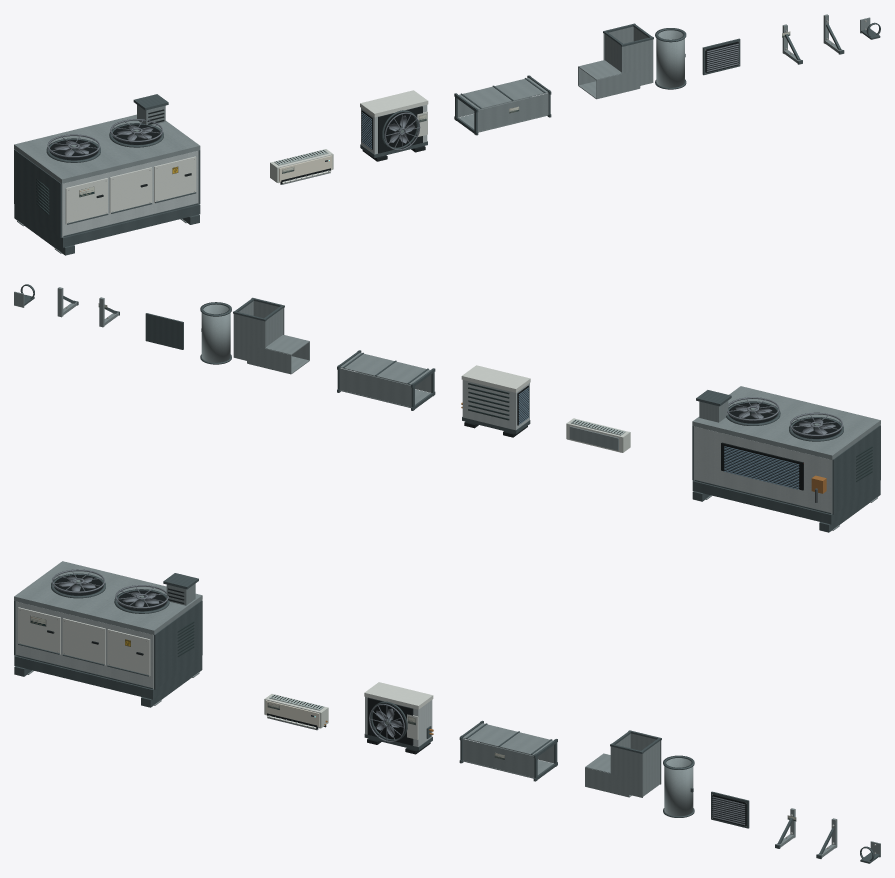
File: PZ_Building_HVAC_Complete_Kit.glb
3 renders of one model, top to bottom at view 1: azimuth 30°, elevation 25°; view 2: azimuth 150°, elevation 25°; view 3: azimuth 330°, elevation 25°, orthographic.
Visible parts, largest first — view 1: RTU_TopRecessed_Panel, RTU_MainCabinet, RTU_Left_CornerTrim, RTU_Underbase_Pan, RTU_ServiceDoor_2, DUCT_Rect_Left, DUCT_RoundTube_HollowWall, RTU_ServiceDoor_3, RTU_ServiceDoor_1, DUCT_Rect_Top, DUCT_ElbowVerticalFront, COND_UpperRemovableCover (+6 smaller); view 2: RTU_TopRecessed_Panel, RTU_MainCabinet, RTU_Left_CornerTrim, RTU_Underbase_Pan, RTU_Back_CoilBlack, COND_Cabinet, DUCT_Rect_Right, DUCT_RoundTube_HollowWall, DUCT_Rect_Top, DUCT_ElbowVerticalBack, DUCT_GrilleBacking, COND_UpperRemovableCover (+3 smaller); view 3: RTU_TopRecessed_Panel, RTU_MainCabinet, RTU_Right_CornerTrim, RTU_Underbase_Pan, RTU_ServiceDoor_2, DUCT_Rect_Left, DUCT_RoundTube_HollowWall, RTU_ServiceDoor_3, RTU_ServiceDoor_1, DUCT_Rect_Top, DUCT_ElbowVerticalFront, COND_UpperRemovableCover (+5 smaller).
Boxes of the visible parts, box(x1,y1,x2,y2) form: RTU_TopRecessed_Panel: box(14, 114, 200, 183); RTU_MainCabinet: box(62, 150, 198, 237); RTU_Left_CornerTrim: box(14, 149, 61, 237); RTU_Underbase_Pan: box(14, 204, 200, 247); RTU_ServiceDoor_2: box(109, 167, 152, 213); DUCT_Rect_Left: box(477, 93, 548, 131); DUCT_RoundTube_HollowWall: box(656, 30, 684, 87); RTU_ServiceDoor_3: box(154, 156, 196, 202); RTU_ServiceDoor_1: box(65, 178, 107, 224); DUCT_Rect_Top: box(459, 78, 548, 109); DUCT_ElbowVerticalFront: box(621, 39, 653, 85); COND_UpperRemovableCover: box(360, 90, 428, 117); RTU_TopRecessed_Panel: box(692, 386, 880, 459); RTU_MainCabinet: box(694, 426, 832, 513); RTU_Left_CornerTrim: box(832, 425, 880, 514); RTU_Underbase_Pan: box(692, 480, 880, 524); RTU_Back_CoilBlack: box(721, 442, 803, 490); COND_Cabinet: box(462, 380, 529, 430); DUCT_Rect_Right: box(340, 368, 411, 407); DUCT_RoundTube_HollowWall: box(201, 304, 230, 362); DUCT_Rect_Top: box(340, 352, 430, 384); DUCT_ElbowVerticalBack: box(233, 314, 265, 365); DUCT_GrilleBacking: box(145, 313, 183, 349); COND_UpperRemovableCover: box(461, 365, 530, 392); RTU_TopRecessed_Panel: box(14, 561, 202, 634); RTU_MainCabinet: box(15, 601, 153, 689); RTU_Right_CornerTrim: box(154, 600, 202, 689); RTU_Underbase_Pan: box(14, 655, 202, 699); RTU_ServiceDoor_2: box(62, 618, 105, 665); DUCT_Rect_Left: box(462, 738, 534, 777); DUCT_RoundTube_HollowWall: box(664, 758, 693, 816); RTU_ServiceDoor_3: box(107, 629, 150, 676); RTU_ServiceDoor_1: box(18, 607, 60, 654); DUCT_Rect_Top: box(463, 723, 553, 755); DUCT_ElbowVerticalFront: box(610, 746, 642, 797); COND_UpperRemovableCover: box(364, 682, 433, 709).
Size of the model in its own units: 13.85 by 1.51 by 1.55.
Materials: 2 (2 with a texture image).
